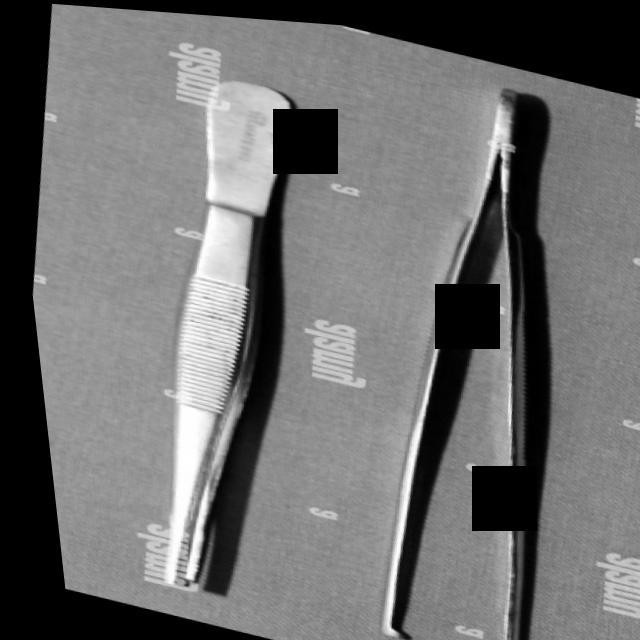Disscting Forceps -Plain-: (92, 54, 336, 611)
Disscting Forceps -tooth-: (295, 47, 623, 640)
